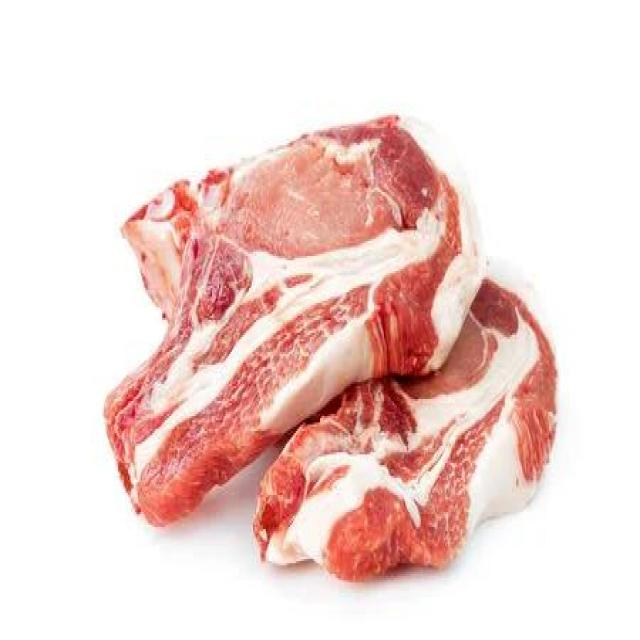pork: (104, 96, 480, 520), (262, 268, 559, 586)
